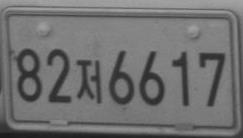1: (169, 50, 195, 106)
2: (46, 48, 71, 103)
6: (138, 50, 166, 106), (107, 49, 134, 104)
7: (198, 51, 225, 107)
8: (16, 47, 42, 102)
저: (75, 59, 102, 104)
